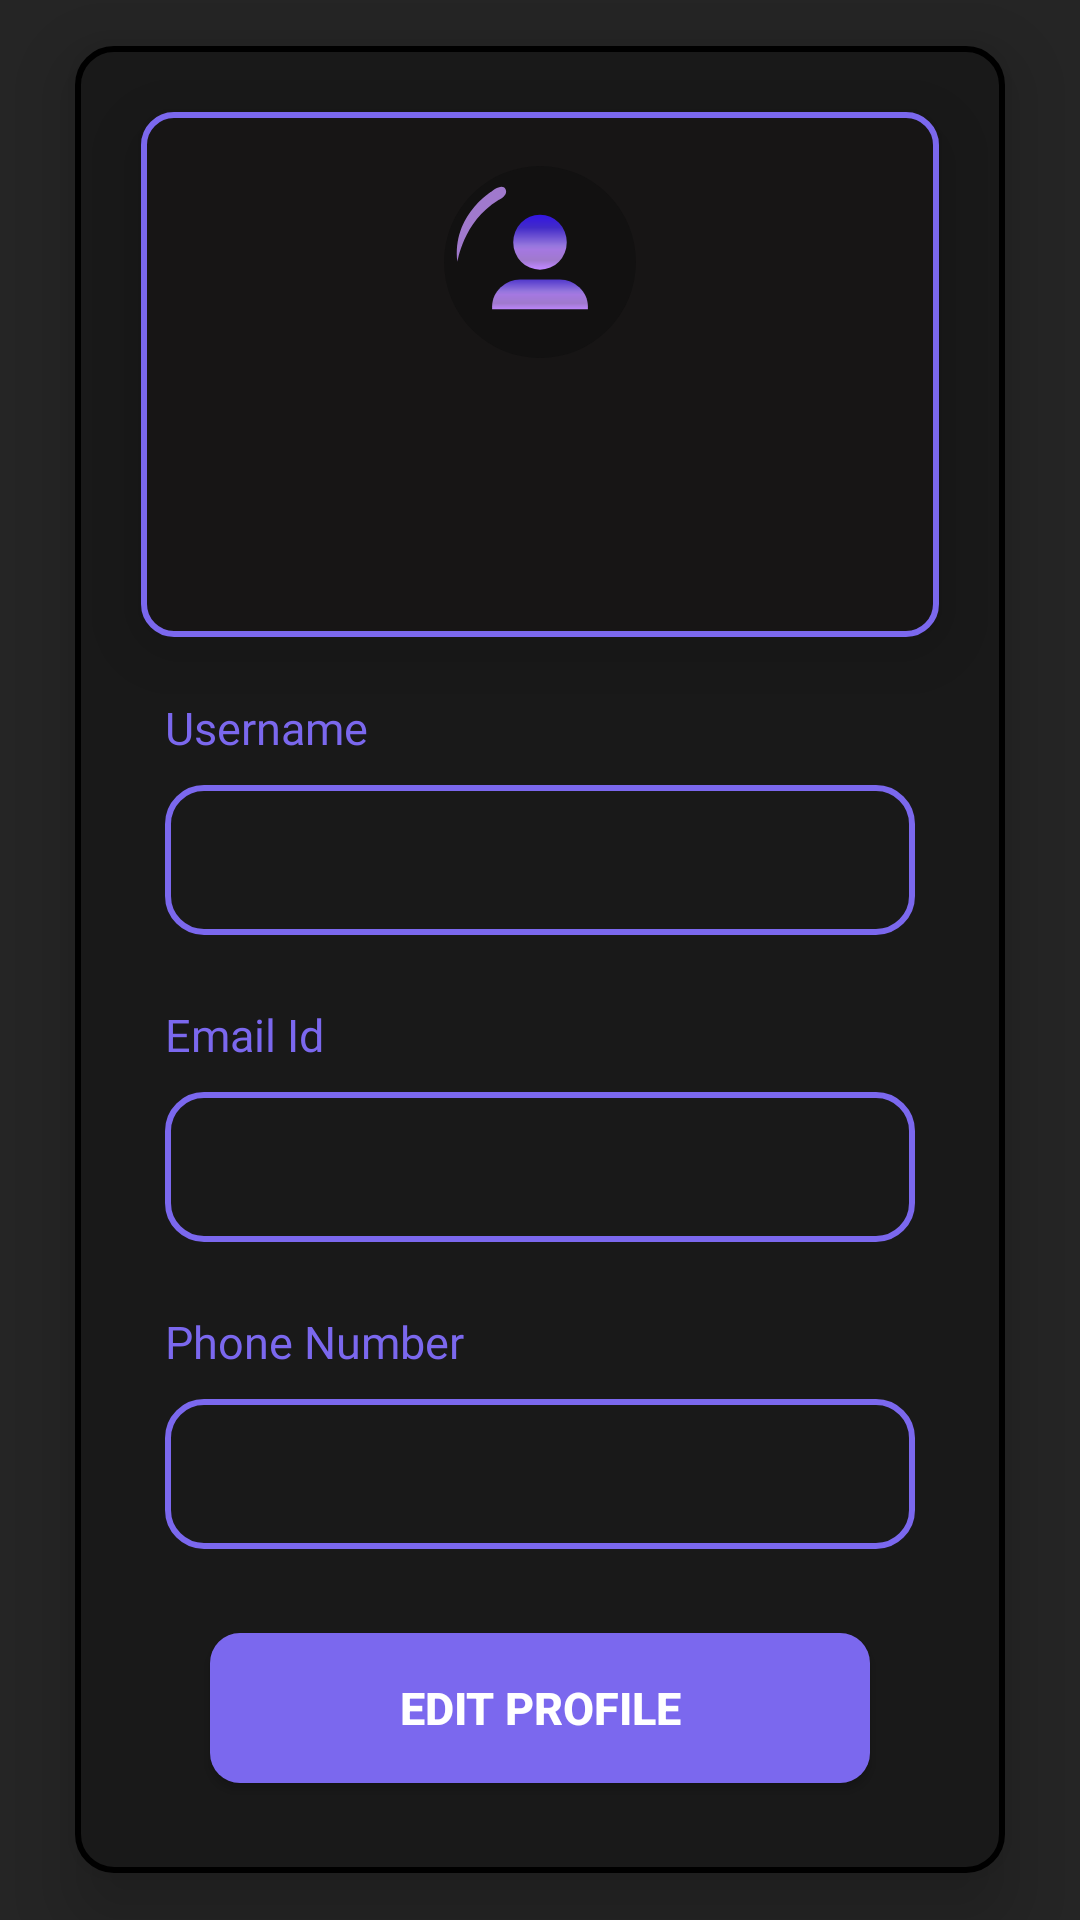

Icon click points for this 1080×1920 phone screenshot, format (x,y):
profile: (522,248)
